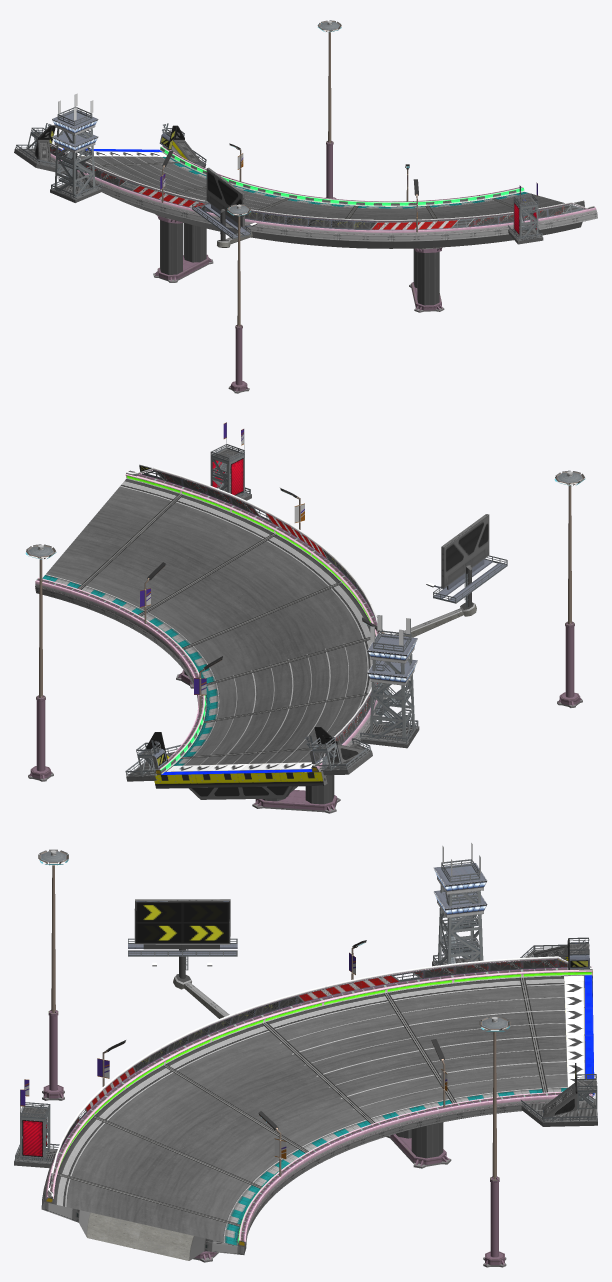
Rendered from T10 - Jump.fbx.
3 views of the same model, one above another, from view 1: azimuth 30°, elevation 25°; view 2: azimuth 150°, elevation 25°; view 3: azimuth 270°, elevation 25° (orthographic). The views are drawn at different scales.
Visible parts, largest first — view 1: standard_road, standard_bridge, standard_arrow_right, wall_drift, pro_stewards_tower, gate, prop_billboard_right, support_pylon, support_pylon_1, bak_cor_lines_jump, pro_camera_tower_attached, tower_attachment_slanted (+3 smaller); view 2: standard_road, wall_drift, pro_stewards_tower, frontplate_jump, prop_billboard_right, gate, standard_arrow_right, banking_middle_lines, bak_cor_lines_jump, pro_camera_tower_attached, standard_bridge, support_ground (+7 smaller); view 3: standard_road, wall_drift, standard_arrow_right, prop_billboard_right, standard_bridge, bak_cor_lines_jump, pro_stewards_tower, gate, banking_middle_lines, pro_camera_tower_attached, support_pylon, pro_floodlight_overhead_2_1 (+6 smaller).
Boxes of the visible parts, box(x1,y1,x2,y2) form: standard_road: box(77, 156, 584, 225); standard_bridge: box(68, 170, 597, 248); standard_arrow_right: box(49, 143, 594, 230); wall_drift: box(34, 146, 596, 235); pro_stewards_tower: box(52, 93, 98, 197); gate: box(14, 123, 206, 173); prop_billboard_right: box(192, 167, 256, 241); support_pylon: box(160, 220, 206, 274); support_pylon_1: box(413, 249, 439, 305); bak_cor_lines_jump: box(58, 148, 276, 210); pro_camera_tower_attached: box(513, 193, 538, 238); tower_attachment_slanted: box(50, 173, 102, 202); standard_road: box(42, 479, 375, 773); wall_drift: box(35, 470, 383, 774); pro_stewards_tower: box(367, 615, 417, 741); frontplate_jump: box(154, 771, 327, 799); prop_billboard_right: box(426, 514, 507, 607); gate: box(125, 727, 372, 781); standard_arrow_right: box(126, 464, 380, 766); banking_middle_lines: box(82, 501, 362, 758); bak_cor_lines_jump: box(161, 643, 349, 774); pro_camera_tower_attached: box(210, 444, 244, 495); standard_bridge: box(35, 587, 388, 792); support_ground: box(252, 790, 340, 813); standard_road: box(52, 976, 592, 1245); wall_drift: box(43, 966, 592, 1247); standard_arrow_right: box(47, 956, 592, 1198); prop_billboard_right: box(128, 899, 237, 978); standard_bridge: box(41, 1102, 545, 1260); bak_cor_lines_jump: box(280, 975, 594, 1109); pro_stewards_tower: box(433, 843, 487, 966); gate: box(520, 937, 597, 1126); banking_middle_lines: box(71, 986, 546, 1222); pro_camera_tower_attached: box(19, 1102, 50, 1161); support_pylon: box(396, 1122, 443, 1158); pro_floodlight_overhead_2_1: box(38, 849, 68, 1012).
Size of the model in its own units: 12660 by 5786 by 12520.
